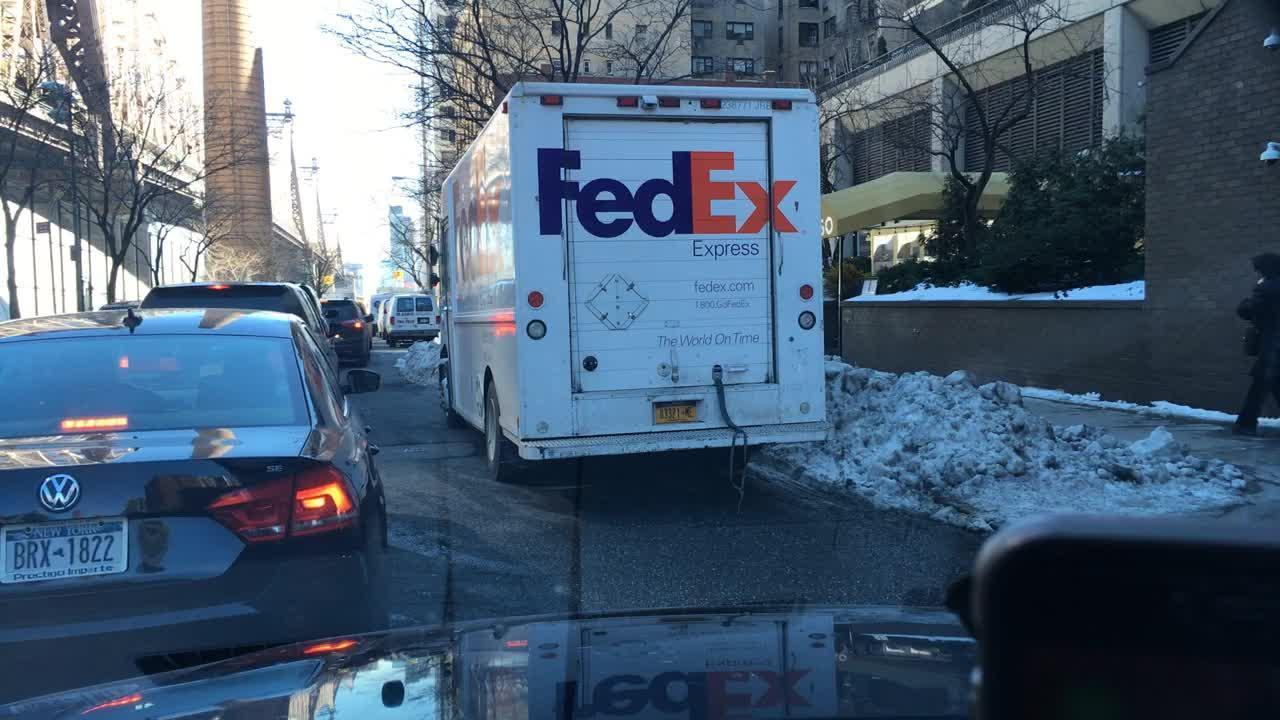Volkswagen: (35, 460, 94, 523)
